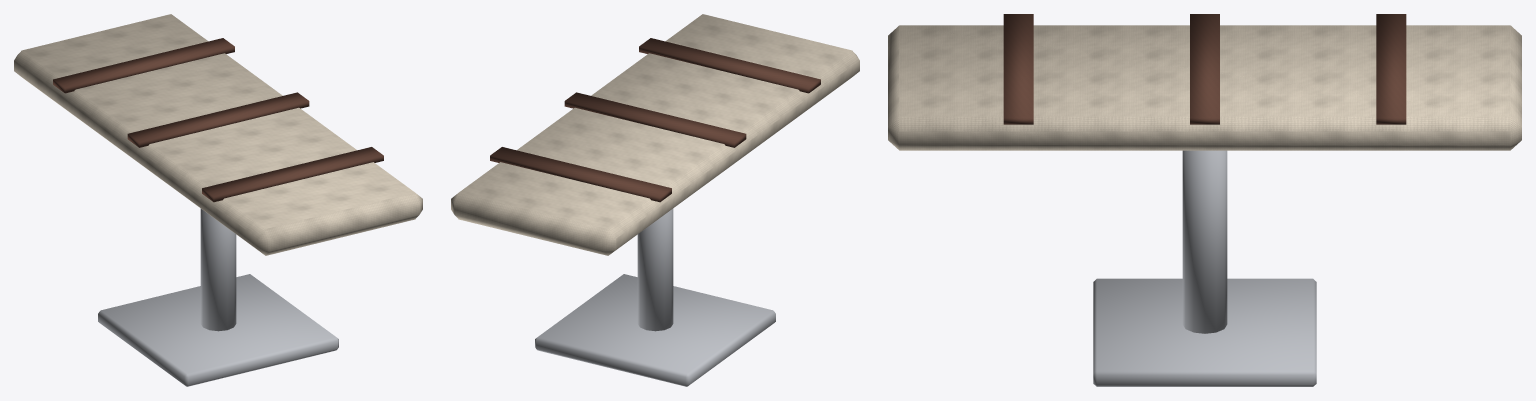
The model's file is TableOperation.glb.
3 renders of one model, left to right at view 1: azimuth 30°, elevation 25°; view 2: azimuth 150°, elevation 25°; view 3: azimuth 270°, elevation 25°, orthographic. The views are drawn at different scales.
Parts seen in each view (by area): view 1: Plateau_Table, Pied, Sangles; view 2: Plateau_Table, Pied, Sangles; view 3: Plateau_Table, Pied, Sangles.
Boxes of the visible parts, x1,y1,x2,y2 form: Plateau_Table: (14, 14, 422, 255); Pied: (98, 208, 338, 386); Sangles: (53, 38, 383, 202); Plateau_Table: (451, 14, 859, 255); Pied: (535, 208, 775, 386); Sangles: (490, 38, 820, 202); Plateau_Table: (888, 25, 1521, 150); Pied: (1093, 150, 1316, 386); Sangles: (1003, 14, 1406, 124).
Size of the model in its own units: 0.66 by 0.819 by 1.7.
3 materials, 2 textured.
